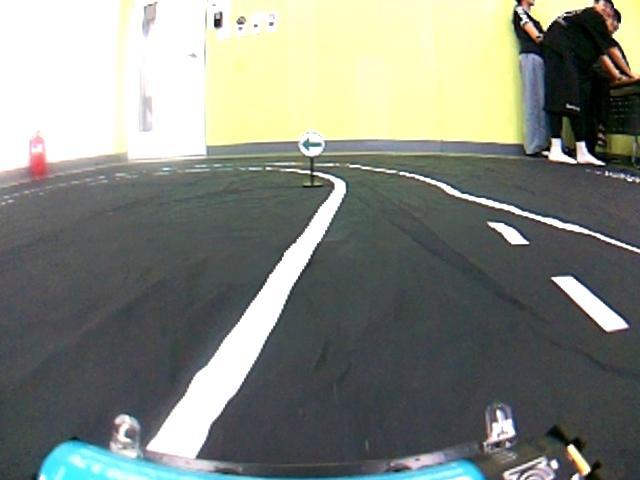right: (21, 210, 640, 479)
sign_left: (295, 128, 333, 157)
